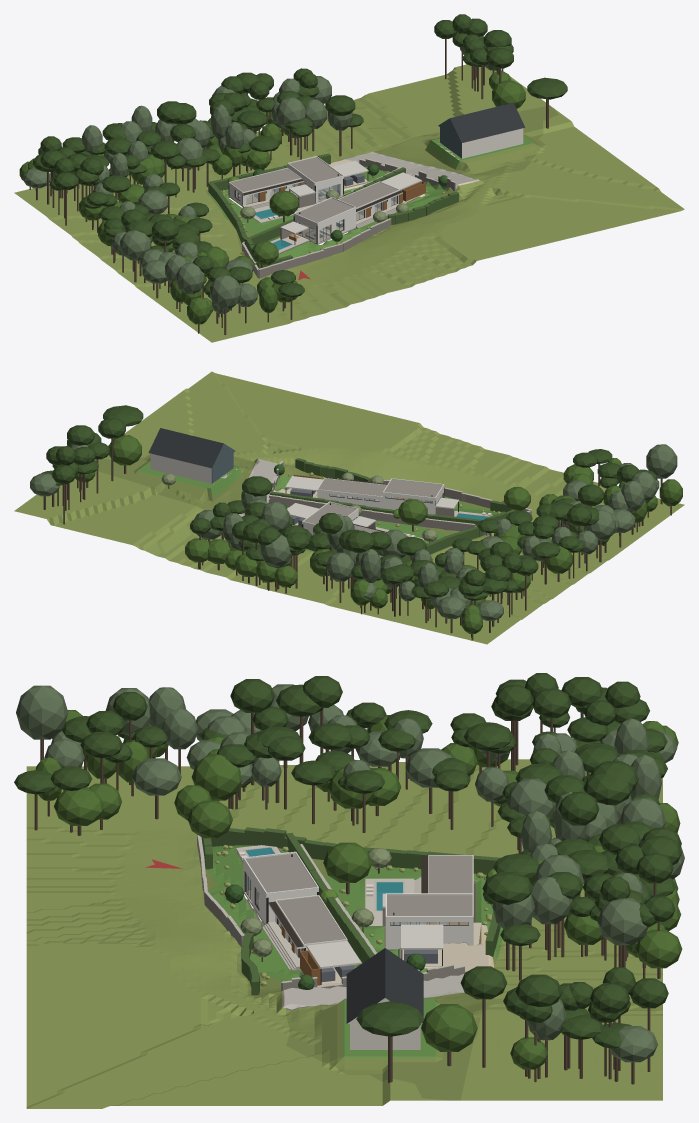
File: terreno_poente.dae
3 renders of one model, top to bottom at view 1: azimuth 30°, elevation 25°; view 2: azimuth 150°, elevation 25°; view 3: azimuth 270°, elevation 25°, orthographic. The views are drawn at different scales.
Parts seen in each view (by area): view 1: Terreno, Árvores, Coberturas (casa e alpendres) (×2), Sebes, Muros de granito e capeamentos, Cobertura de duas águas, Paredes (×2), Volumetria, Caixilharia e vidros, Alpendres e arrumos; view 2: Terreno, Árvores, Coberturas (casa e alpendres) (×2), Sebes, Cobertura de duas águas, Muros de granito e capeamentos, Volumetria, Paredes; view 3: Terreno, Árvores, Coberturas (casa e alpendres) (×2), Sebes, Cobertura de duas águas, Exteriores (deck, terraço e piscina) (×2), Paredes (×2), Muros de granito e capeamentos, Volumetria, Arbustos e gramíneas.
Part boxes in pixels (left/top/right/bottom): Terreno: left=14, top=64, right=684, bottom=342; Árvores: left=19, top=14, right=567, bottom=334; Coberturas (casa e alpendres) (×2): left=228, top=156, right=421, bottom=233; Sebes: left=208, top=153, right=458, bottom=268; Muros de granito e capeamentos: left=242, top=158, right=455, bottom=278; Cobertura de duas águas: left=438, top=102, right=525, bottom=142; Paredes (×2): left=228, top=166, right=398, bottom=243; Volumetria: left=437, top=127, right=523, bottom=159; Caixilharia e vidros: left=296, top=195, right=397, bottom=242; Alpendres e arrumos: left=280, top=181, right=425, bottom=245; Terreno: left=14, top=371, right=684, bottom=644; Árvores: left=30, top=405, right=682, bottom=640; Coberturas (casa e alpendres) (×2): left=285, top=476, right=459, bottom=533; Sebes: left=269, top=458, right=525, bottom=561; Cobertura de duas águas: left=148, top=428, right=235, bottom=468; Muros de granito e capeamentos: left=266, top=460, right=531, bottom=535; Volumetria: left=150, top=453, right=237, bottom=483; Paredes: left=317, top=487, right=444, bottom=514; Terreno: left=26, top=759, right=662, bottom=1108; Árvores: left=14, top=673, right=684, bottom=1084; Coberturas (casa e alpendres) (×2): left=243, top=851, right=473, bottom=968; Sebes: left=202, top=827, right=500, bottom=995; Cobertura de duas águas: left=346, top=948, right=423, bottom=1023; Exteriores (deck, terraço e piscina) (×2): left=236, top=845, right=485, bottom=970; Paredes (×2): left=243, top=862, right=473, bottom=957; Muros de granito e capeamentos: left=197, top=834, right=465, bottom=991; Volumetria: left=350, top=1024, right=420, bottom=1049; Arbustos e gramíneas: left=215, top=844, right=492, bottom=986.
Size of the model in its own units: 119 by 88.54 by 20.81.
